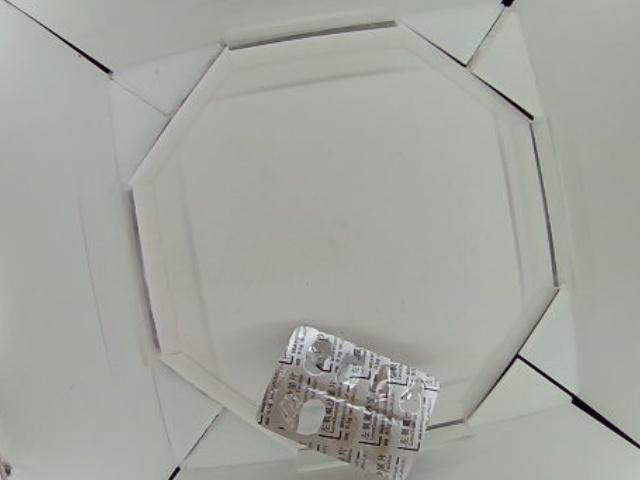Medicine: (258, 320, 441, 479)
